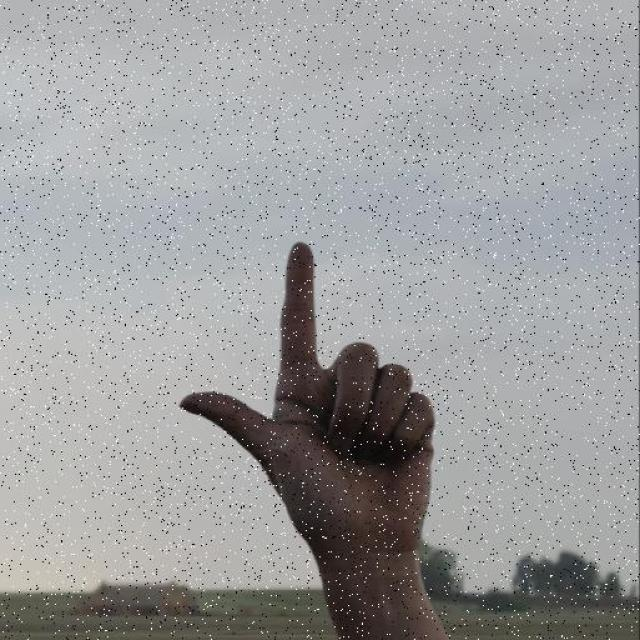L: (176, 240, 438, 566)
